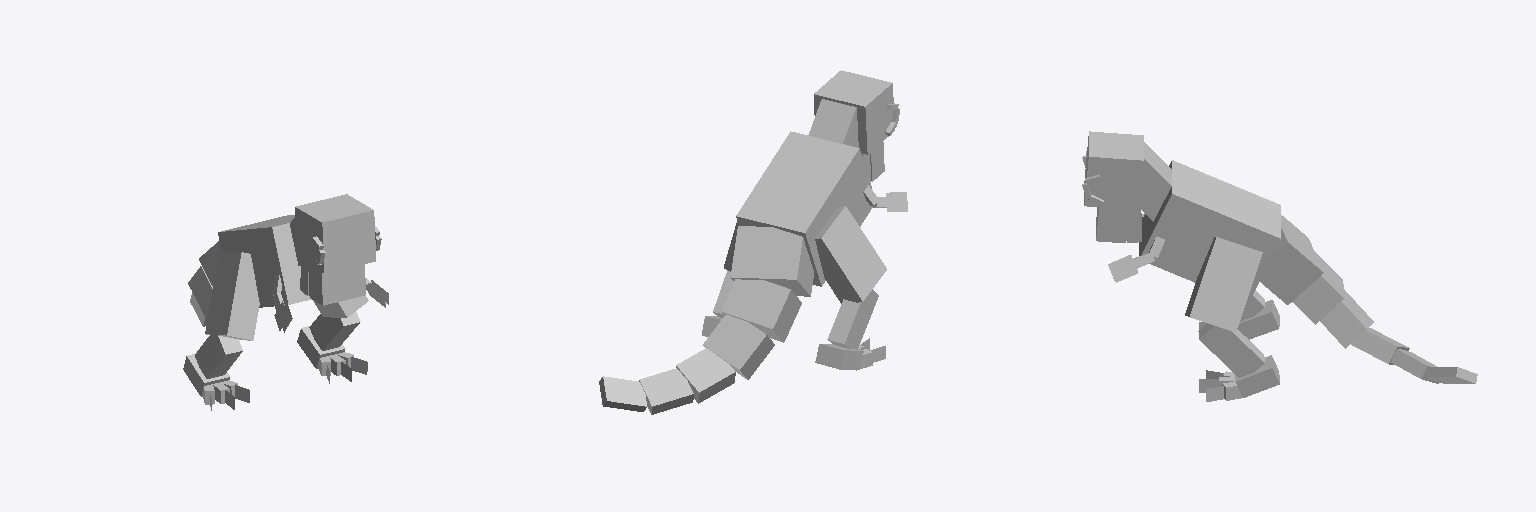
The model's file is animateddinosaur34.obj.
The picture shows the model from 3 angles: view 1: azimuth 30°, elevation 25°; view 2: azimuth 150°, elevation 25°; view 3: azimuth 270°, elevation 25°; orthographic projection.
Parts seen in each view (by area): view 1: Object_64, Object_6, Object_9, Object_56, Object_12, Object_34, Object_37, Object_95, Object_31, Object_15; view 2: Object_6, Object_92, Object_9, Object_64, Object_95, Object_98, Object_101, Object_53, Object_104, Object_12, Object_107, Object_15; view 3: Object_6, Object_31, Object_64, Object_92, Object_34, Object_95, Object_53, Object_98, Object_101, Object_37, Object_15, Object_56 (+3 smaller).
Boxes of the visible parts, <box> form: Object_64: <box>295,194,375,273</box>; Object_6: <box>218,215,311,307</box>; Object_9: <box>205,251,259,340</box>; Object_56: <box>309,264,365,305</box>; Object_12: <box>195,335,242,378</box>; Object_34: <box>309,312,360,350</box>; Object_37: <box>297,326,345,368</box>; Object_95: <box>188,266,212,317</box>; Object_31: <box>313,295,368,317</box>; Object_15: <box>183,354,229,396</box>; Object_6: <box>736,131,872,286</box>; Object_92: <box>730,226,813,296</box>; Object_9: <box>815,206,886,303</box>; Object_64: <box>814,70,894,154</box>; Object_95: <box>721,279,801,342</box>; Object_98: <box>703,314,774,379</box>; Object_101: <box>676,348,735,403</box>; Object_53: <box>808,99,858,147</box>; Object_104: <box>639,368,693,414</box>; Object_12: <box>827,289,878,349</box>; Object_107: <box>599,376,646,411</box>; Object_15: <box>815,344,863,369</box>; Object_6: <box>1139,160,1280,304</box>; Object_31: <box>1185,236,1262,332</box>; Object_64: <box>1084,131,1143,209</box>; Object_92: <box>1260,215,1323,304</box>; Object_34: <box>1198,323,1264,377</box>; Object_95: <box>1293,252,1343,324</box>; Object_53: <box>1139,142,1171,221</box>; Object_98: <box>1320,289,1373,348</box>; Object_101: <box>1351,328,1409,364</box>; Object_37: <box>1235,355,1279,397</box>; Object_15: <box>1237,300,1279,339</box>; Object_56: <box>1096,207,1123,242</box>.
Size of the model in its own units: 2.34 by 3.05 by 4.95.